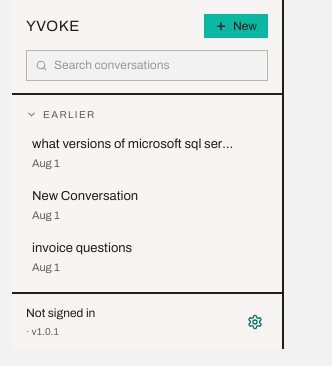
Test: ThreadList search › surfaces a thread whose messages matched, with the matching excerpt highlighted
The width and height of the screenshot is (332, 366).
In the field labelled "Search conversations": (156, 66) [54, 56, 259, 75], type "retention"
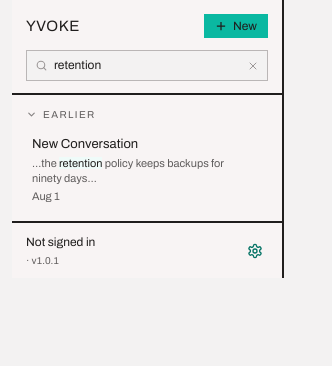
expect the text "New Conversation" is shown: met, box [32, 138, 138, 152]
expect the text "retention" is shown: met, box [59, 157, 102, 169]
expect the button "invoice questions" is gone: met
